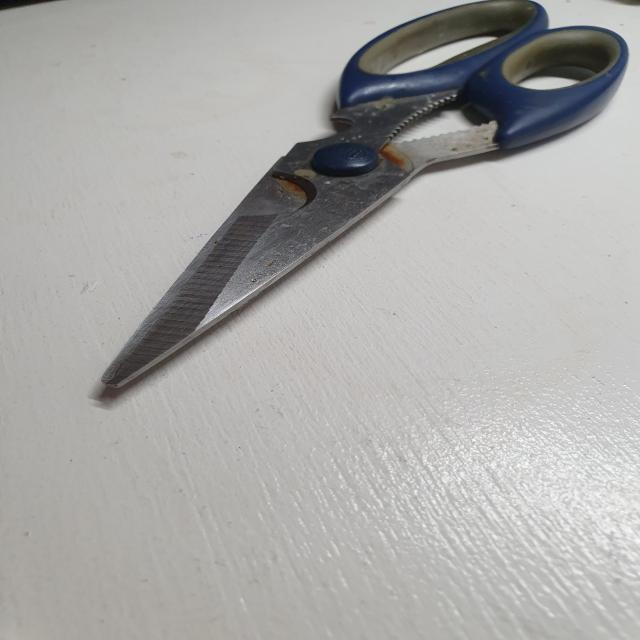scissor: (94, 0, 628, 399)
